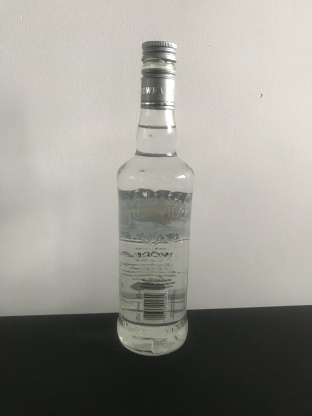nakretka: (139, 39, 178, 110)
